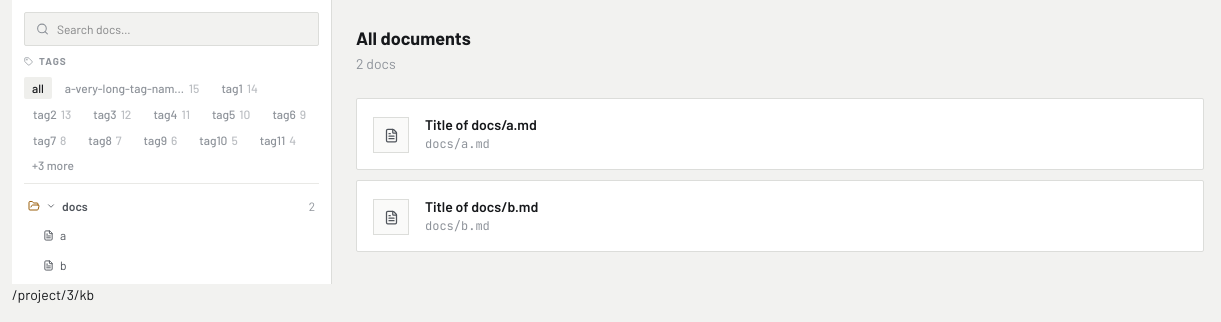
Test: Library URL state › shows the top 12 tags and a +N more toggle that expands; long tags carry a title
The image size is (1221, 322).
Expected: the text "tag11" is shown, [260,132,285,148]
Expected: the text "tag12" is not shown
Click the button "+3 more" at coordinates (53, 165), box [24,155,82,175]
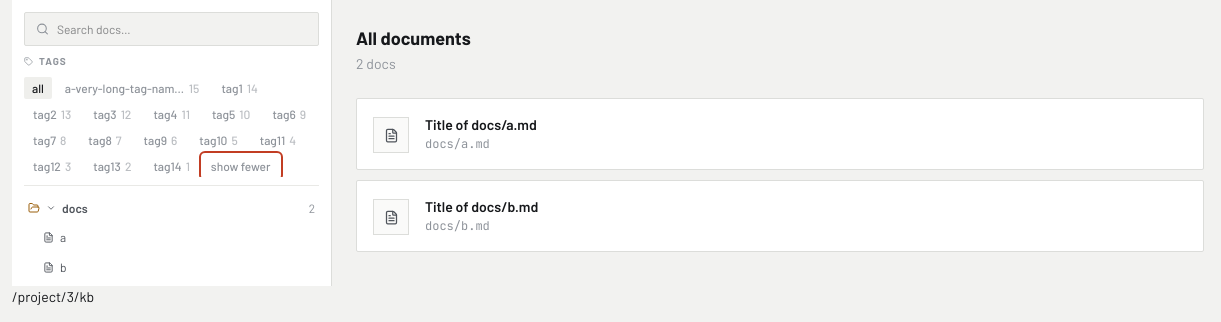
Result: the text "tag14" is shown at [153,158,182,174]
Click the button "show fewer" at coordinates (241, 166), box [203,155,278,177]
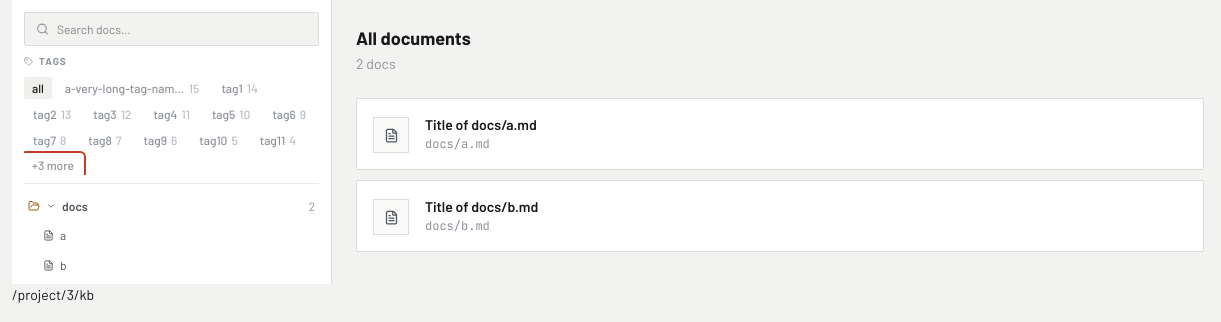
Result: the button "tag14" is gone
